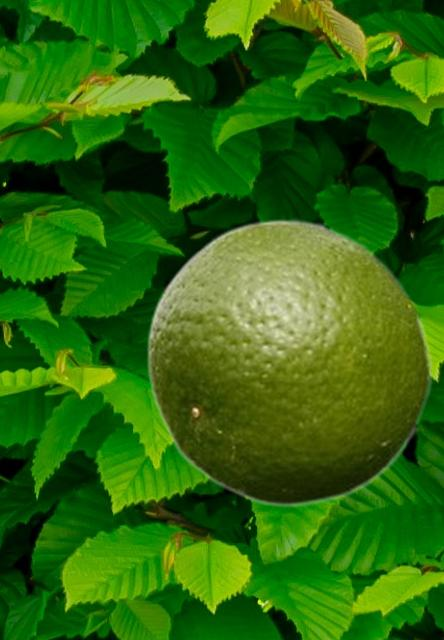calamansi: (146, 216, 432, 507)
